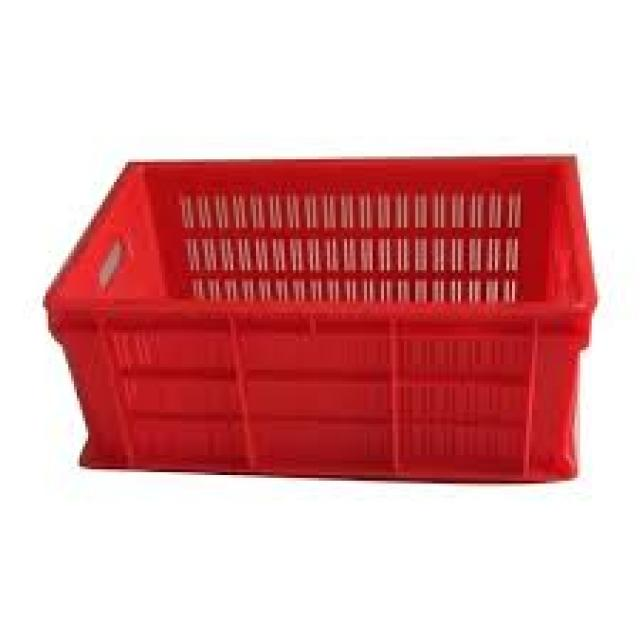basket: (43, 150, 599, 483)
